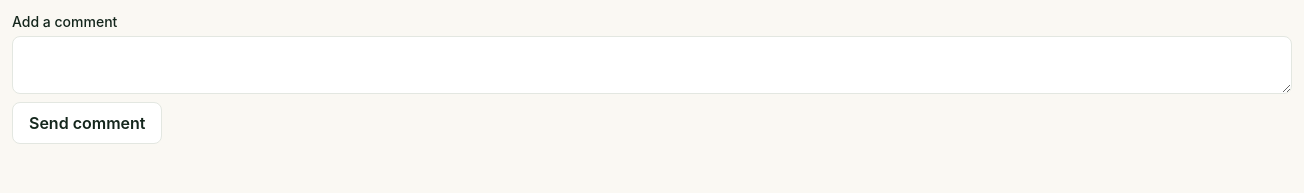
Test: CommentForm › blocks when no name is available
Type "Nice review" into the text box labelled "Add a comment" at [652, 65], box [12,36,1292,94]
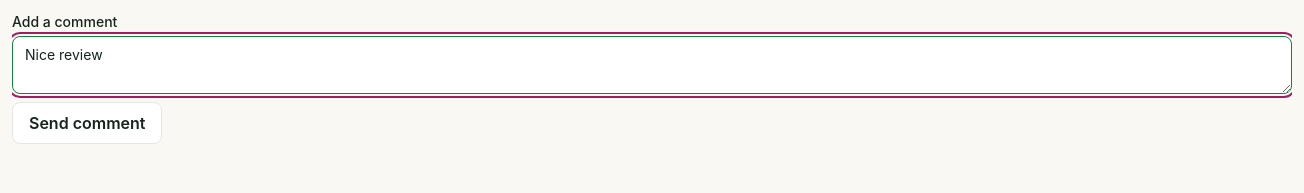
Click the button "Send comment" at [87, 123], box [12,102,162,144]
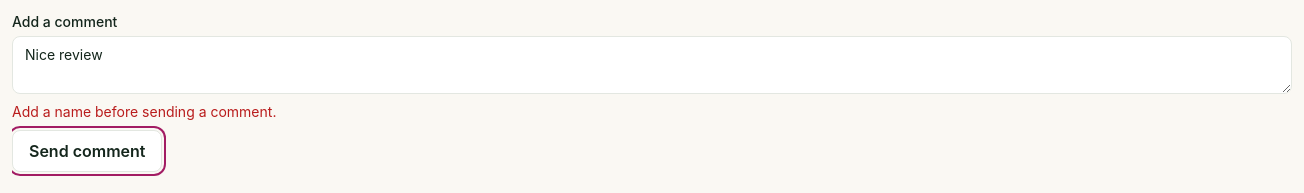
Check: the message shows "Add a name", box [12,103,276,120]
